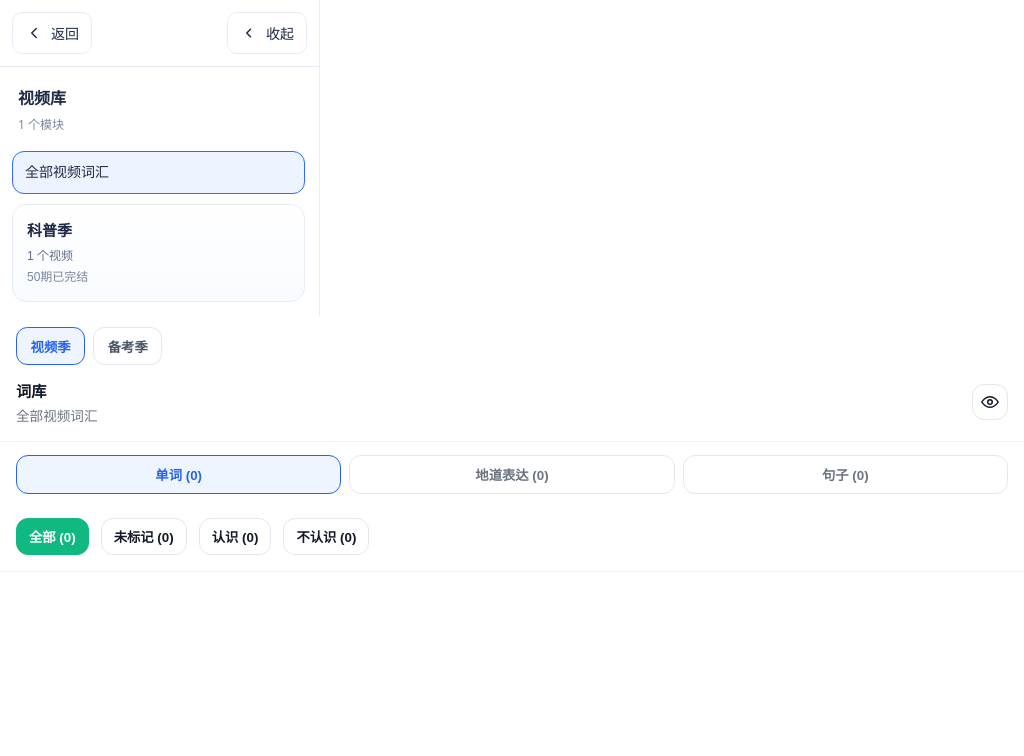
Test: LexiconPage sources › does not merge a word favorite into an expression with the same term and translation
Click the text "科普季" at (50, 229), box [27,219,72,240]
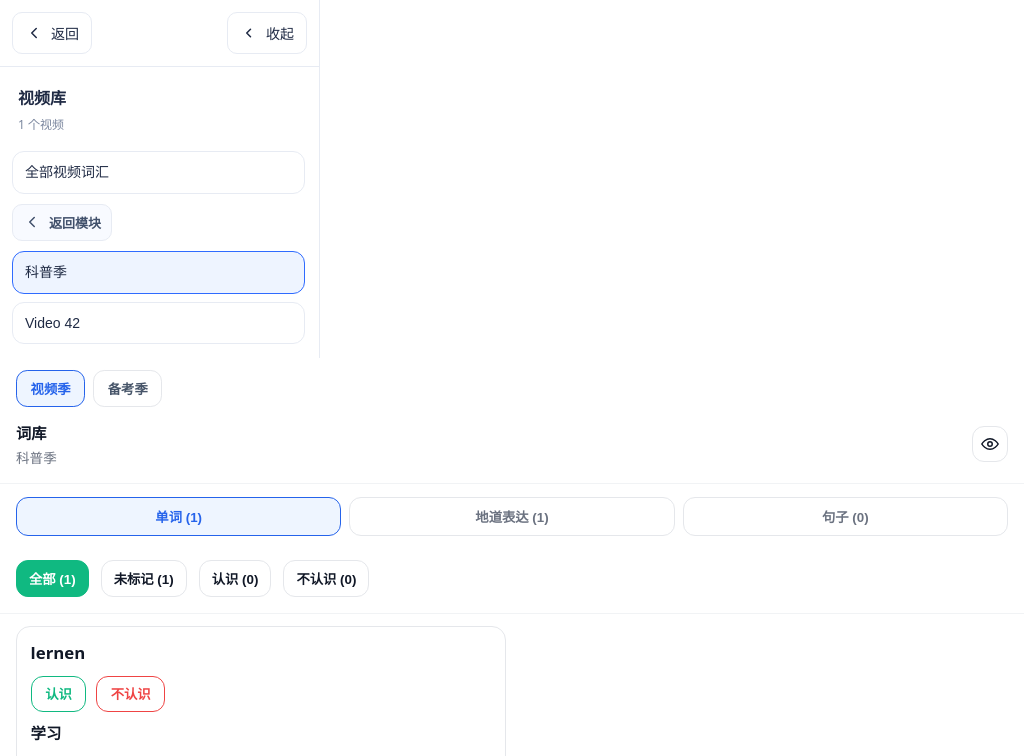
Click the list item "Video 42" at (53, 323), box [12,302,305,344]
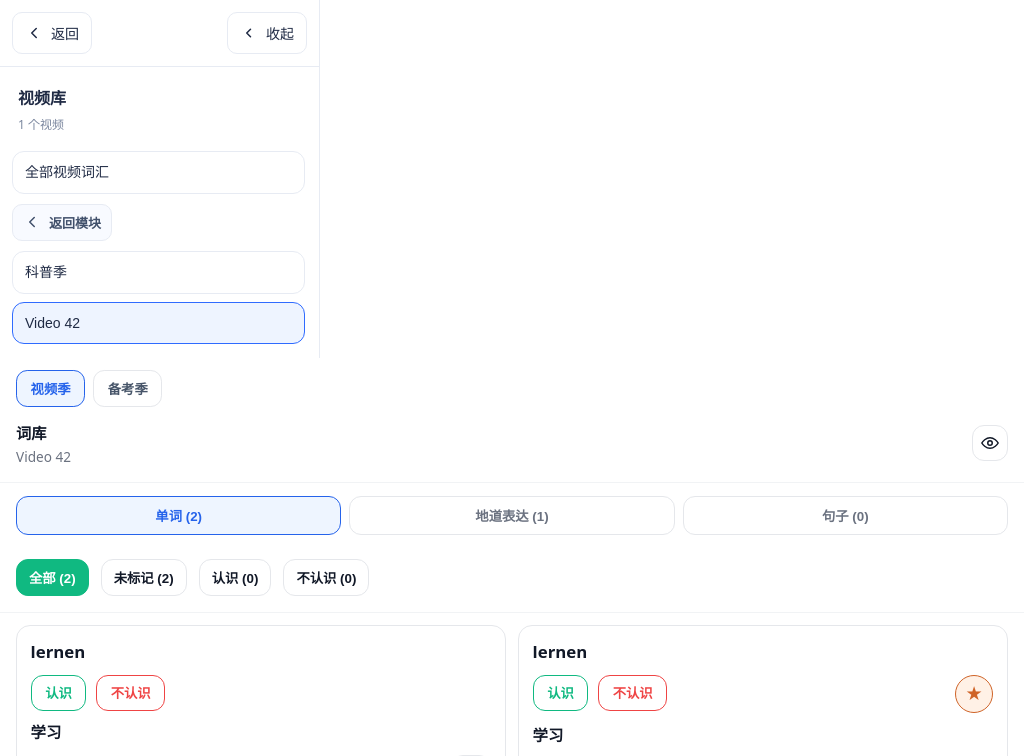
Click the button "地道表达 (1)" at (512, 516), box [349,496,675,535]
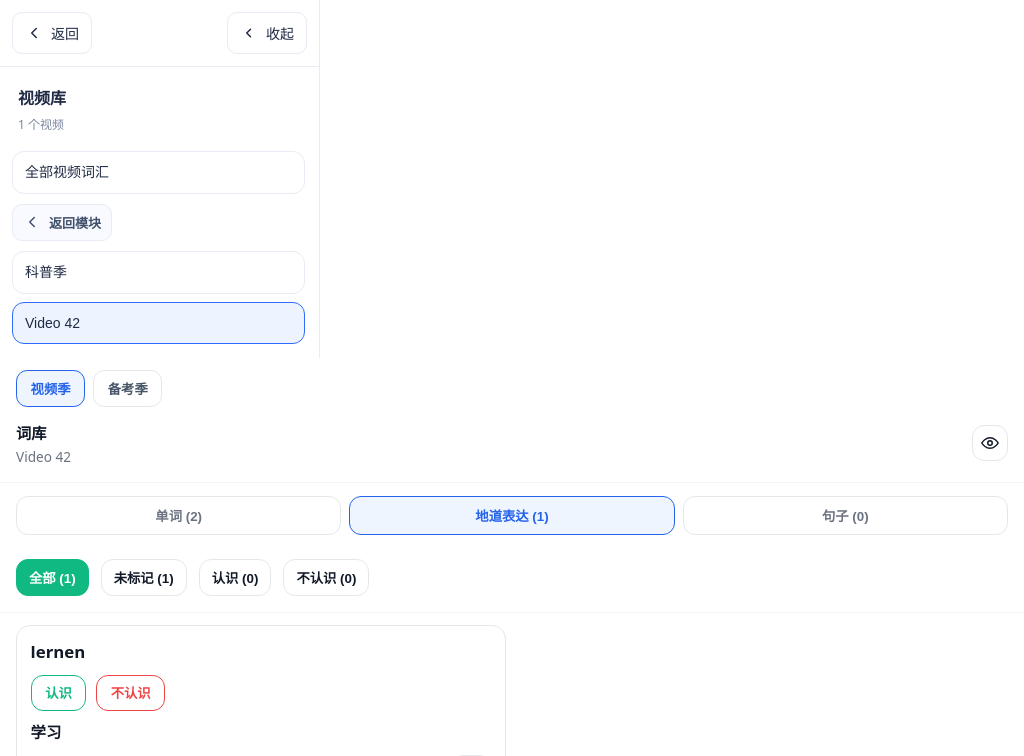
Check: the button "取消收藏" is gone
Click the button "单词 (2)" at (179, 516), box [16,496,341,535]
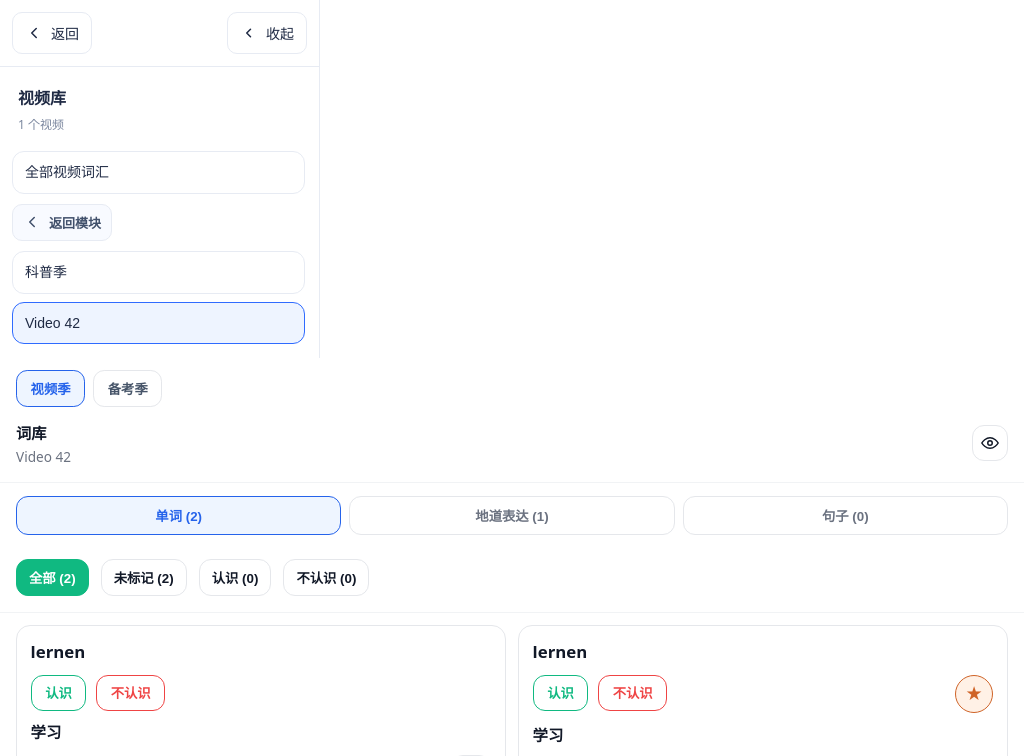
Check: the button named "取消收藏" is shown, box [955,674,993,713]
